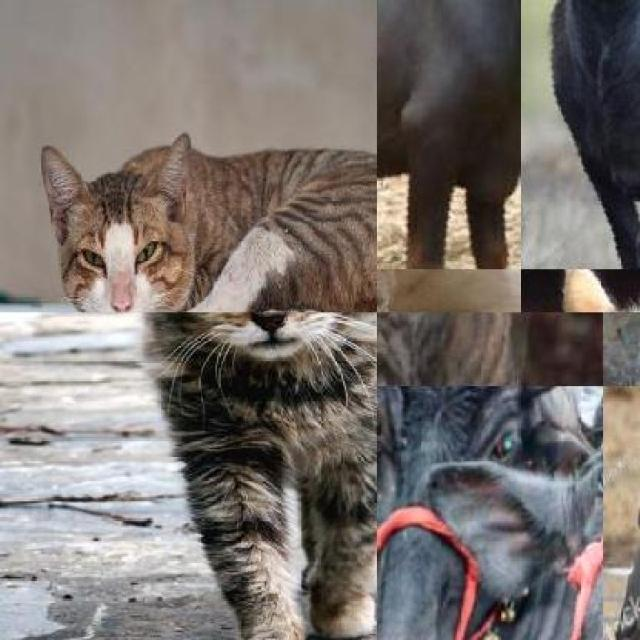buffalo: (377, 386, 578, 640), (377, 0, 520, 269), (520, 0, 640, 269), (500, 386, 603, 640)
cat: (126, 312, 377, 640), (32, 115, 377, 312), (377, 312, 572, 386)
